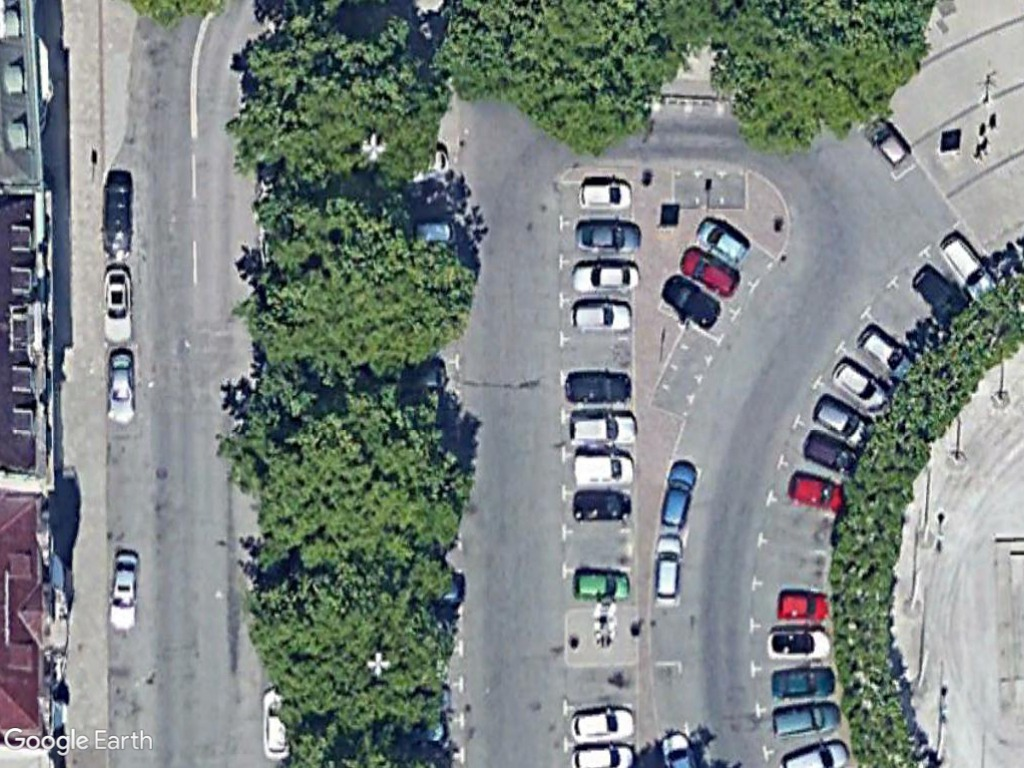car: (935, 229, 1001, 308), (655, 273, 728, 332), (853, 320, 920, 384), (675, 240, 744, 300), (807, 391, 876, 449), (94, 262, 139, 348), (826, 356, 892, 414), (104, 543, 144, 637), (655, 454, 701, 535), (768, 697, 846, 742), (691, 213, 755, 267), (565, 704, 641, 749), (649, 528, 691, 608), (913, 263, 969, 323), (97, 173, 134, 263), (760, 624, 837, 667), (565, 409, 643, 451), (798, 429, 864, 478), (767, 659, 840, 703), (783, 468, 851, 515), (570, 216, 648, 256), (104, 342, 139, 429), (559, 368, 638, 406), (861, 113, 913, 170), (565, 299, 639, 336), (569, 260, 645, 296), (565, 452, 641, 488), (563, 488, 639, 524), (566, 565, 636, 604), (770, 587, 836, 627), (570, 176, 638, 214)
